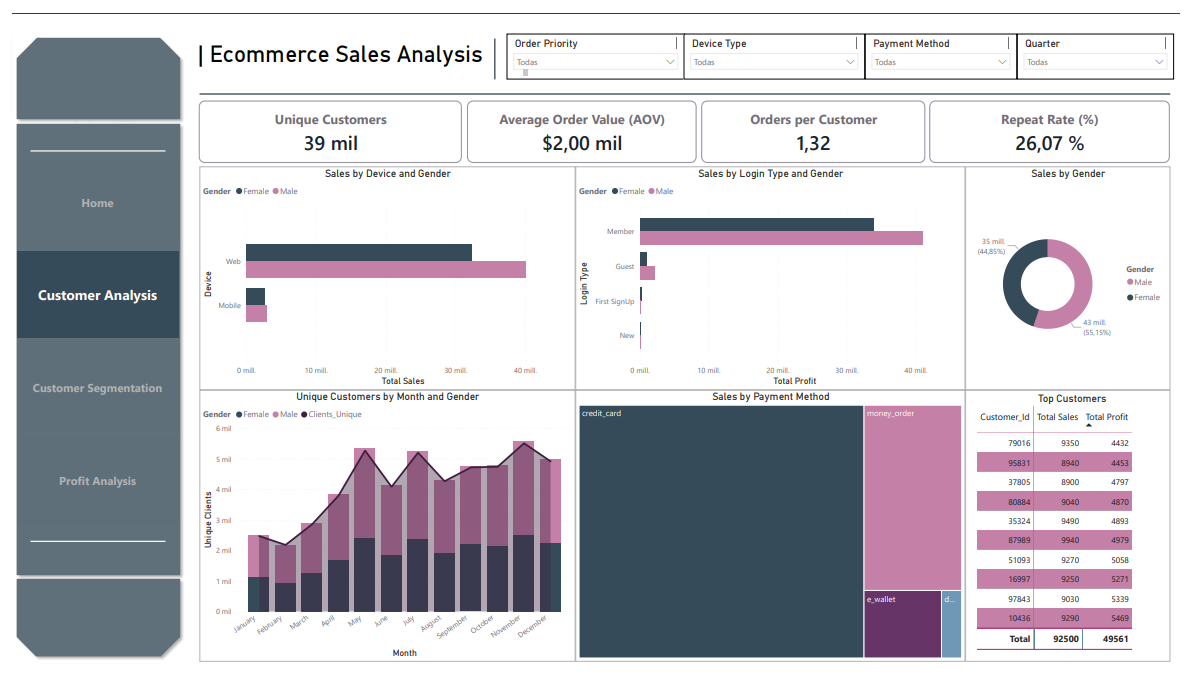

The page's visual inventory and layout, read from the dashboard file:
{"tool":"powerbi","page":{"name":"Customer Analysis","canvas":[1920,1080],"ordinal":1},"visuals":[{"type":"clusteredBarChart","title":"Sales by Login Type and Gender","fields":{"Category":["ecomm.Customer_Login_type"],"Series":["ecomm.Gender"],"Y":["Sum(ecomm.Sales)"]},"box":[927,251.4,641.1,367.1],"z":0},{"type":"treemap","title":"Sales by Payment Method","fields":{"Group":["ecomm.Payment_method"],"Values":["Sum(ecomm.Sales)"]},"box":[927,618.5,641.1,445.6],"z":1000},{"type":"donutChart","title":"Sales by Gender","fields":{"Category":["ecomm.Gender"],"Y":["Sum(ecomm.Sales)"]},"box":[1568.1,251.4,336.5,367.1],"z":2000},{"type":"clusteredBarChart","title":"Sales by Device and Gender","fields":{"Series":["ecomm.Gender"],"Y":["Sum(ecomm.Sales)"],"Category":["ecomm.Device_Type"]},"box":[308.6,251.4,618.5,367.1],"z":3000},{"type":"slicer","fields":{"Values":["Calendar.Quarter"]},"box":[1653.3,33.3,258,74.5],"z":4000},{"type":"slicer","fields":{"Values":["ecomm.Order_Priority"]},"box":[814,33.3,292.6,74.5],"z":5000},{"type":"slicer","fields":{"Values":["ecomm.Payment_method"]},"box":[1403.2,33.3,250,74.5],"z":6000},{"type":"slicer","fields":{"Values":["ecomm.Device_Type"]},"box":[1105.3,33.3,297.9,74.5],"z":7000},{"type":"textbox","title":"| Ecommerce Sales Analysis","box":[301.9,43.9,552,63.8],"z":8000},{"type":"shape","box":[308.6,122.4,1596.1,20],"z":9000},{"type":"shape","box":[779.4,41.2,30.6,66.5],"z":10000},{"type":"image","box":[39.9,65.2,204.8,135.7],"z":11000},{"type":"shape","box":[30.6,239.4,222.1,22.6],"z":12000},{"type":"shape","box":[30.6,867.2,222.1,22.6],"z":13000},{"type":"pageNavigator","box":[9.3,290,264.7,577.2],"z":14000},{"type":"shape","box":[0,171.6,284.6,759.5],"z":15000},{"type":"shape","box":[0,31.9,284.6,150.3],"z":16000},{"type":"shape","box":[0,920.4,284.6,143.6],"z":17000},{"type":"shape","box":[30.6,214.1,222.1,22.6],"z":18000},{"type":"shape","box":[30.6,855.2,222.1,22.6],"z":19000},{"type":"pageNavigator","box":[9.3,239.4,264.7,599.9],"z":20000},{"type":"tableEx","title":"Top Customers","fields":{"Values":["ecomm.Customer_Id","Sum(ecomm.Sales)","Sum(ecomm.Profit)"]},"box":[1568.1,618.5,336.5,445.6],"z":21000},{"type":"cardVisual","fields":{"Data":["ecomm.Clients_Unique"]},"box":[291.3,126.4,465.5,135.7],"z":22000},{"type":"cardVisual","fields":{"Data":["ecomm.Avg_Order_Value"]},"box":[731.5,126.4,411,135.7],"z":23000},{"type":"cardVisual","fields":{"Data":["ecomm.Pedidos por Cliente"]},"box":[1117.2,126.4,401.7,135.7],"z":24000},{"type":"cardVisual","fields":{"Data":["ecomm.Repeat Rate"]},"box":[1492.3,126.4,428.3,135.7],"z":25000},{"type":"lineStackedColumnComboChart","title":"Unique Customers by Month and Gender","fields":{"Category":["Calendar.MonthName"],"Series":["ecomm.Gender"],"Y":["ecomm.Clients_Unique"],"Y2":["ecomm.Clients_Unique"]},"box":[308.6,618.5,618.5,445.6],"z":26000}]}

Visuals, with their boxes on the page's 1920x1080 design canvas (x1, y1, x2, y2). These are canvas units, not pixel positions in the 1192x682 screenshot, which may show the page scaled, cropped or inside an application window:
"Sales by Login Type and Gender" clusteredBarChart: (927,251,1568,618)
"Sales by Payment Method" treemap: (927,618,1568,1064)
"Sales by Gender" donutChart: (1568,251,1905,618)
"Sales by Device and Gender" clusteredBarChart: (309,251,927,618)
slicer - Calendar.Quarter: (1653,33,1911,108)
slicer - ecomm.Order_Priority: (814,33,1107,108)
slicer - ecomm.Payment_method: (1403,33,1653,108)
slicer - ecomm.Device_Type: (1105,33,1403,108)
"| Ecommerce Sales Analysis" textbox: (302,44,854,108)
shape: (309,122,1905,142)
shape: (779,41,810,108)
image: (40,65,245,201)
shape: (31,239,253,262)
shape: (31,867,253,890)
pageNavigator: (9,290,274,867)
shape: (0,172,285,931)
shape: (0,32,285,182)
shape: (0,920,285,1064)
shape: (31,214,253,237)
shape: (31,855,253,878)
pageNavigator: (9,239,274,839)
"Top Customers" tableEx: (1568,618,1905,1064)
cardVisual - ecomm.Clients_Unique: (291,126,757,262)
cardVisual - ecomm.Avg_Order_Value: (732,126,1142,262)
cardVisual - ecomm.Pedidos por Cliente: (1117,126,1519,262)
cardVisual - ecomm.Repeat Rate: (1492,126,1921,262)
"Unique Customers by Month and Gender" lineStackedColumnComboChart: (309,618,927,1064)
